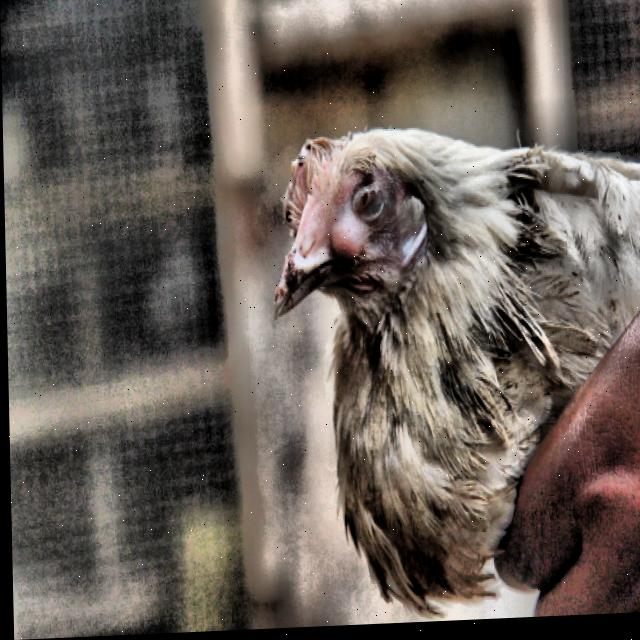Coryza: (271, 94, 465, 364)
